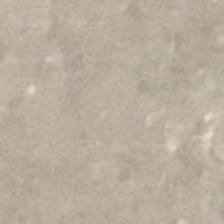Non_Crack: (16, 33, 224, 193)
